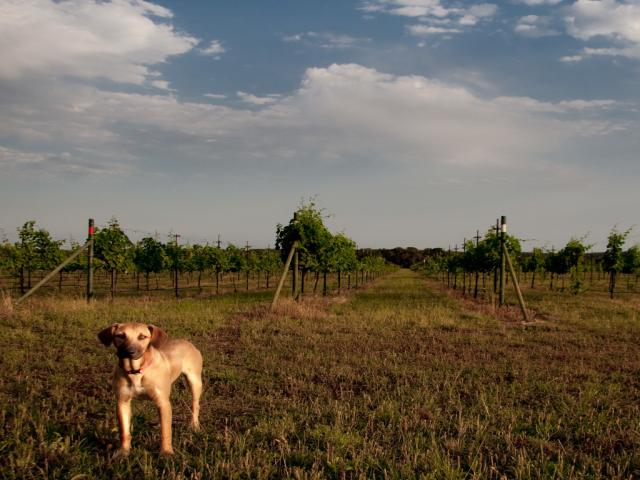Dog: (94, 321, 209, 460)
